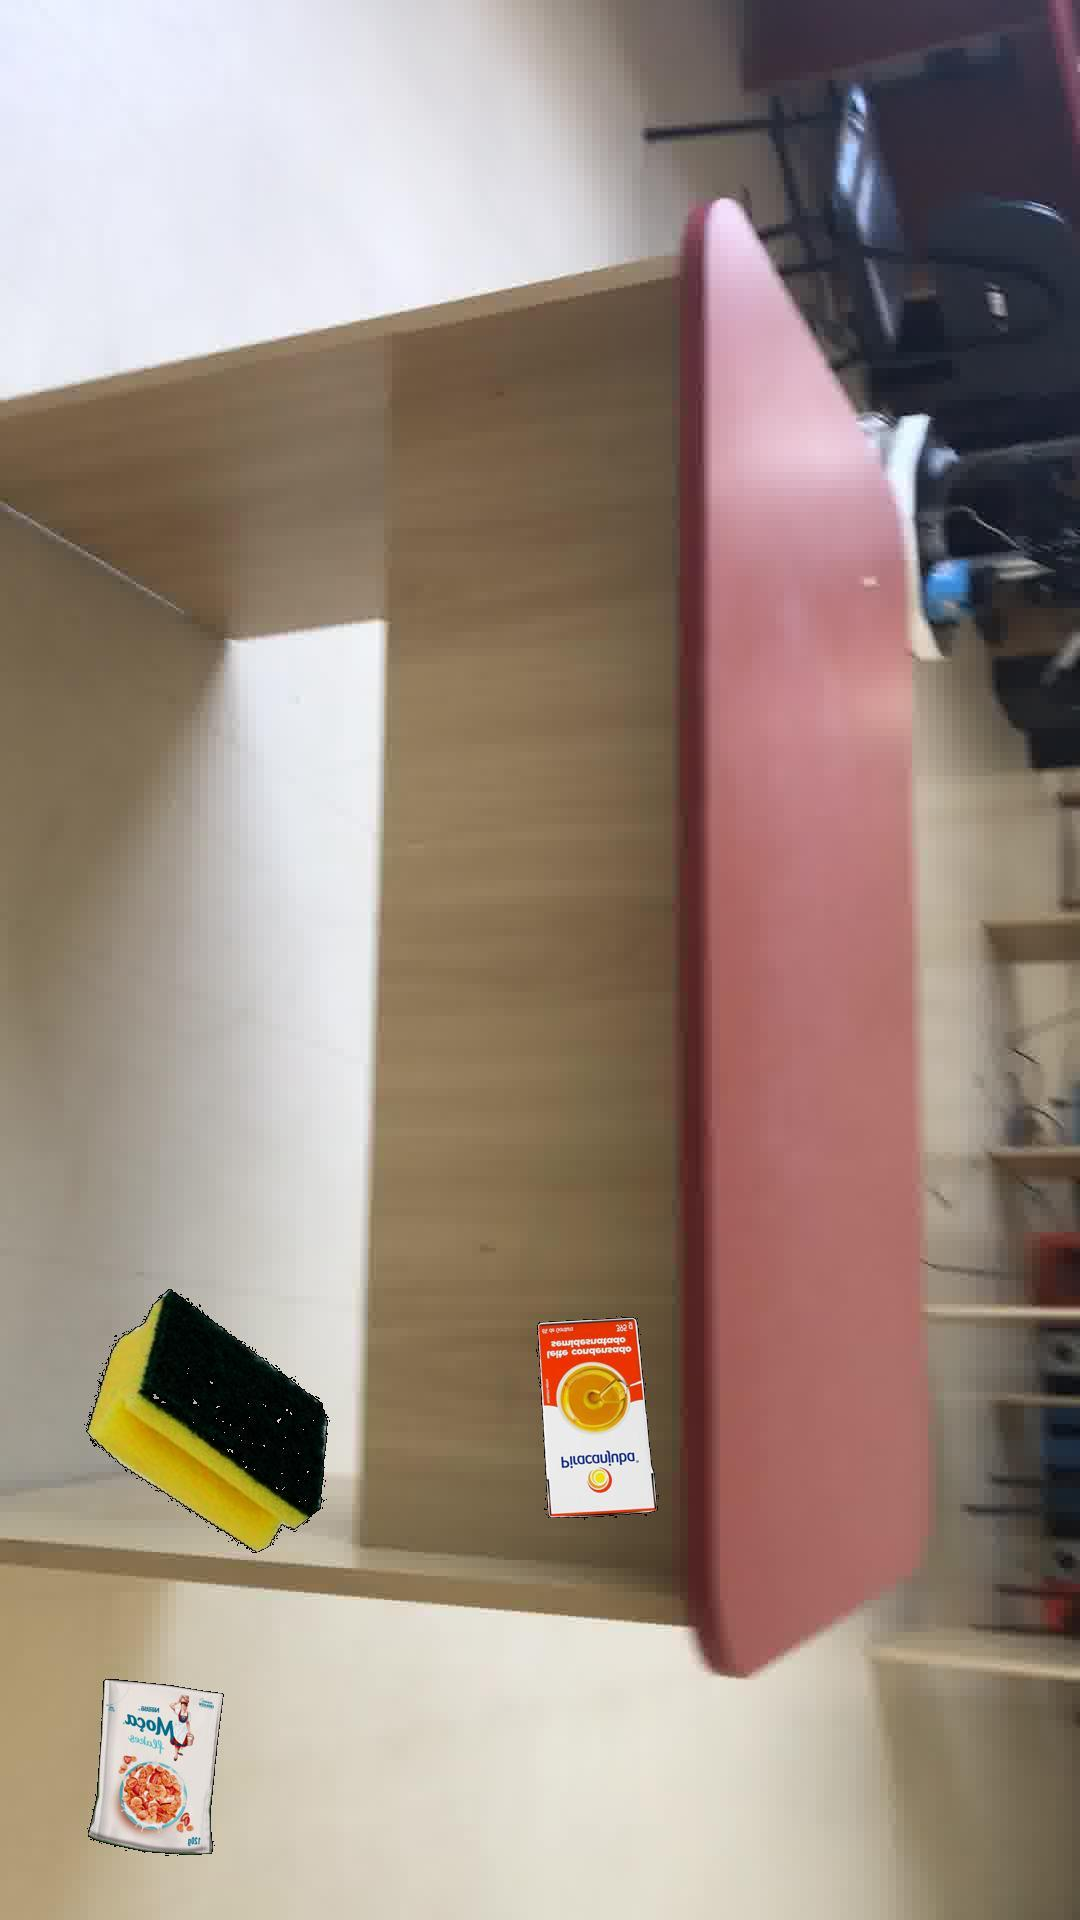corn flakes: (87, 1677, 223, 1854)
sponge: (84, 1287, 327, 1552)
